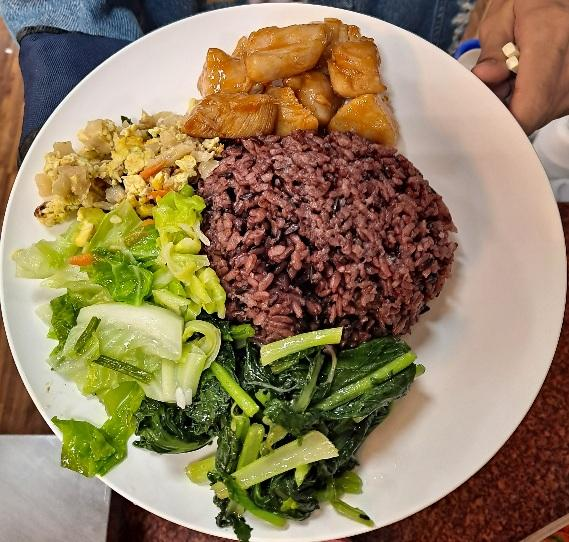big fried chicken leg: (6, 10, 564, 542)
braised fish: (207, 134, 470, 340)
braised fish fillet: (173, 341, 418, 526), (42, 205, 206, 440), (35, 114, 218, 211)
braised pork: (178, 13, 428, 153)
